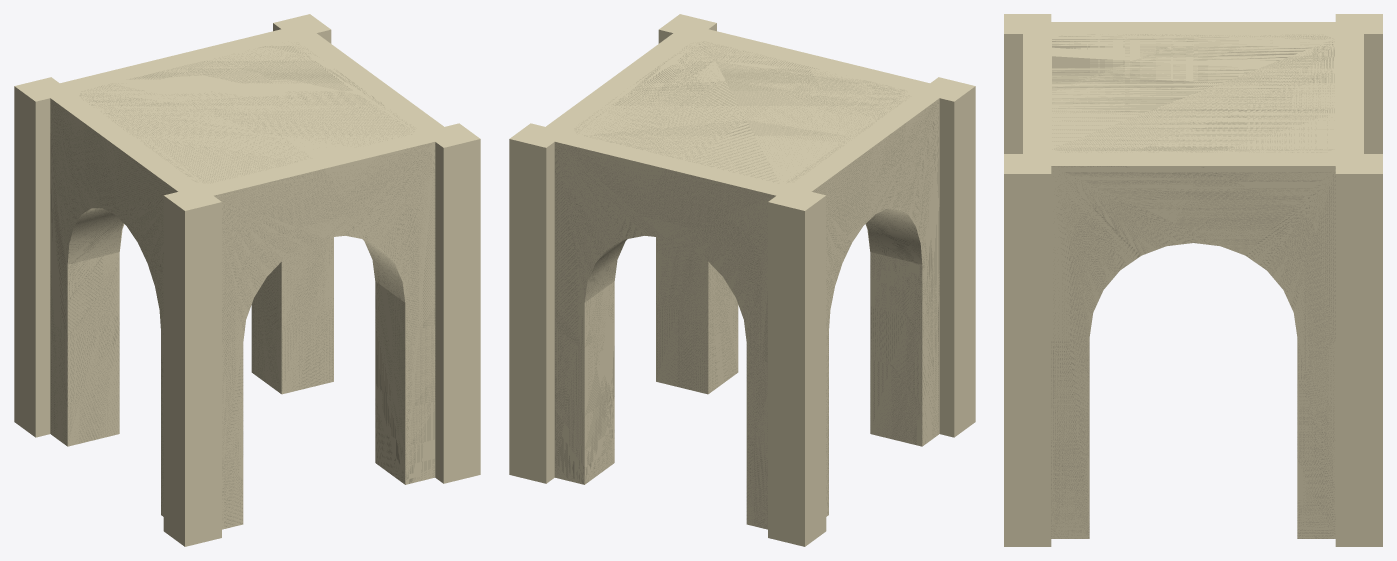
File: towerSquareArch.obj
3 views of the same model, side by side, from view 1: azimuth 30°, elevation 25°; view 2: azimuth 150°, elevation 25°; view 3: azimuth 270°, elevation 25° (orthographic). The views are drawn at different scales.
Parts seen in each view (by area): view 1: towerSquareArch; view 2: towerSquareArch; view 3: towerSquareArch.
Boxes of the visible parts, box(x1,y1,x2,y2) form: towerSquareArch: box(14, 14, 480, 546); towerSquareArch: box(509, 14, 975, 546); towerSquareArch: box(1004, 14, 1382, 546).
Bounding box in the file's own units: 9.3 × 10.1 × 9.3.
